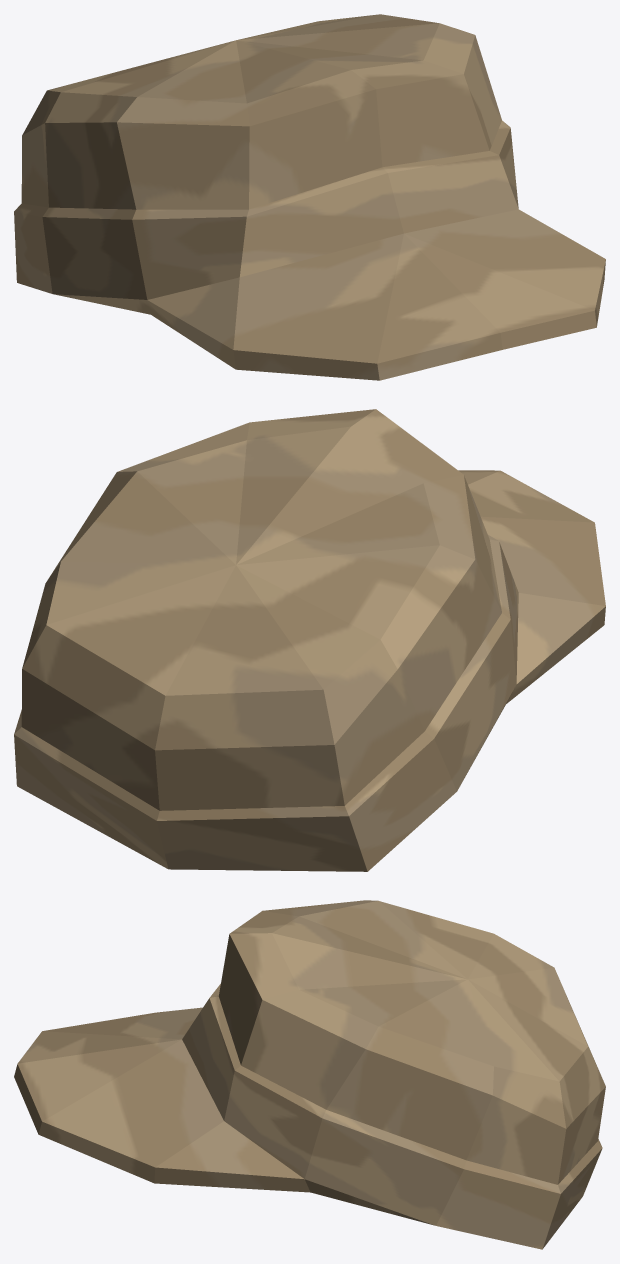
Rendered from SM_Chr_Attach_Hat_04.fbx.
3 renders of one model, top to bottom at view 1: azimuth 30°, elevation 25°; view 2: azimuth 150°, elevation 25°; view 3: azimuth 270°, elevation 25°, orthographic. The views are drawn at different scales.
Visible parts, largest first — view 1: SM_Chr_Attach_Hat_04; view 2: SM_Chr_Attach_Hat_04; view 3: SM_Chr_Attach_Hat_04.
Part boxes in pixels (left/top/right/bottom): SM_Chr_Attach_Hat_04: left=14, top=14, right=605, bottom=380; SM_Chr_Attach_Hat_04: left=14, top=409, right=605, bottom=871; SM_Chr_Attach_Hat_04: left=14, top=900, right=605, bottom=1249.
Bounding box in the file's own units: 28.3 × 20.67 × 42.12.
